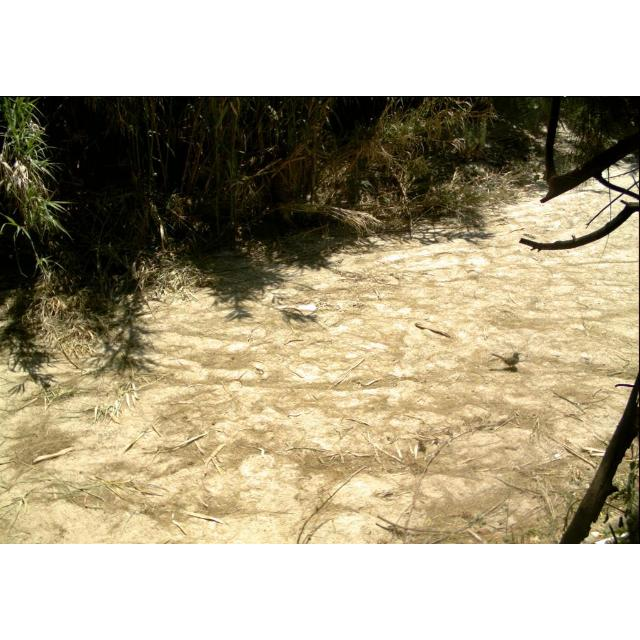animals: (488, 350, 526, 370)
